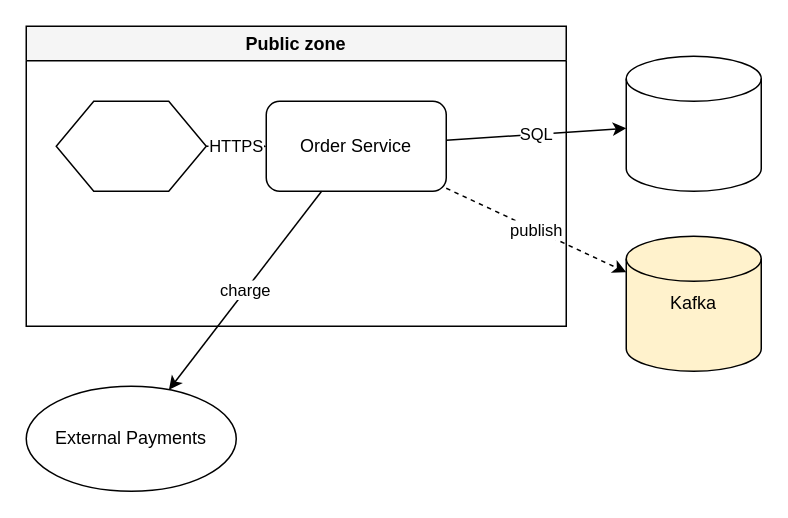
Image size: 788x518. Some labels were removed from this diagram. Here are the shapes that lost their labels. From the top down, the centre of each, then its label:
At point 693,123: "PostgreSQL (orders)".
At point 130,145: "API Gateway".
